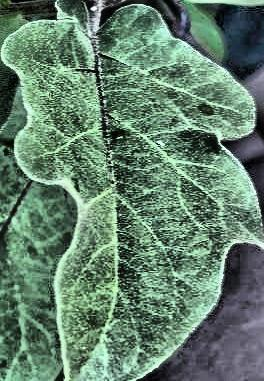HEALTHY: (1, 1, 264, 381)
